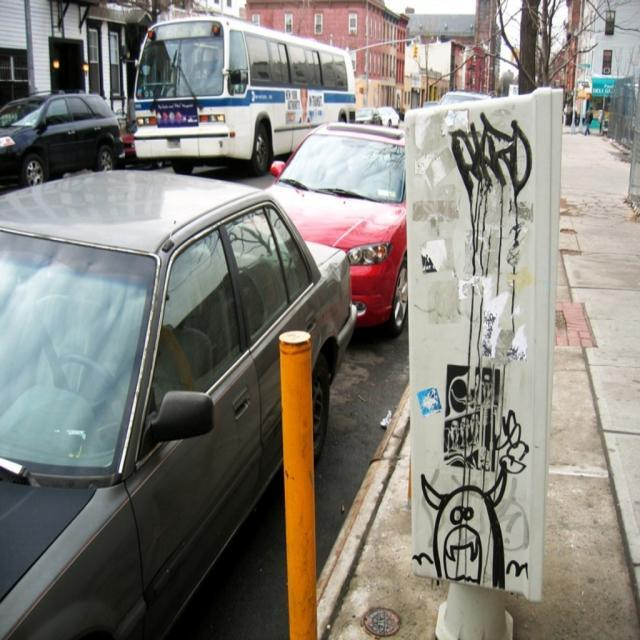motorcycle: (130, 11, 357, 179)
truck: (2, 171, 342, 640), (264, 113, 468, 322), (0, 84, 120, 196)
